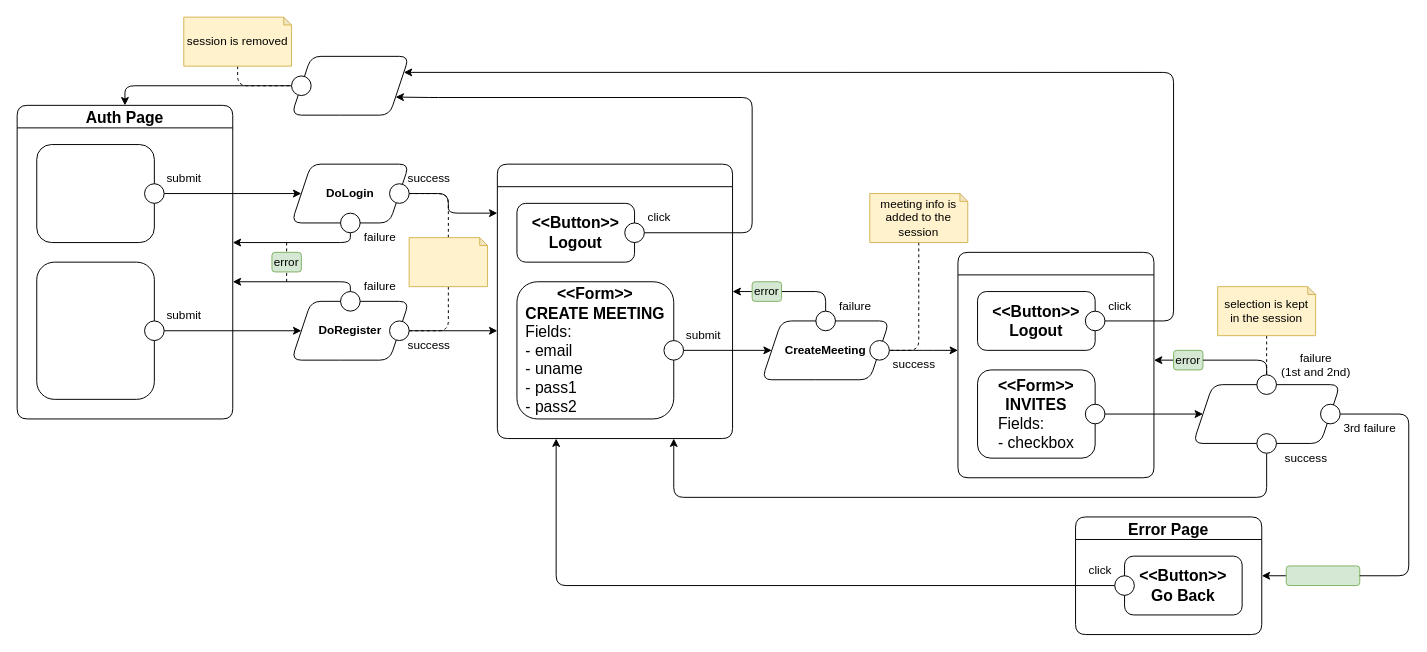
Image size: 1427x652. Some labels were removed from this diagram. The box of each missing label's shape, as (x1, y1, x2, y2) in pixels:
<<Form>> LOGIN Fields: - email - pass: (36, 144, 154, 243)
<<Form>> SIGN UP Fields: - email - uname - pass1 - pass2: (36, 261, 154, 399)
CompleteMeeting: (1192, 384, 1340, 443)
DoLogout: (291, 55, 409, 115)
error, redirect: (1285, 565, 1360, 586)
Home Page: (496, 163, 733, 439)
Share Meeting Page: (957, 251, 1154, 478)
user info is added to the session: (408, 237, 488, 287)
